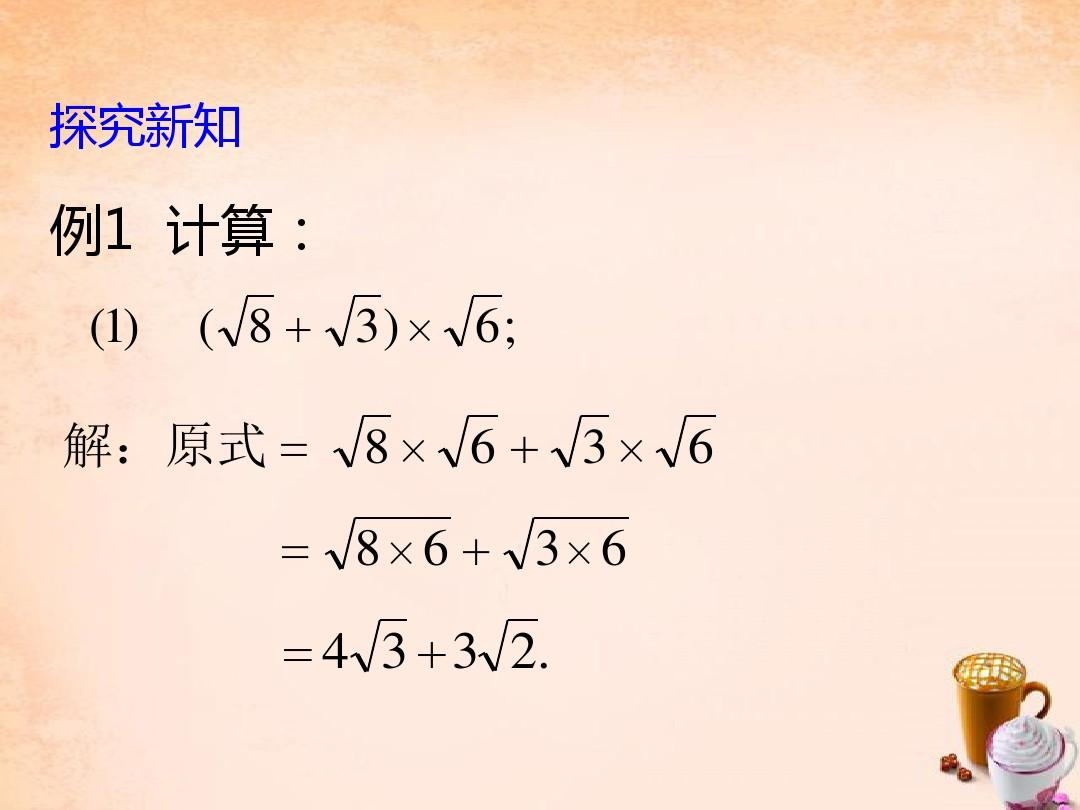sqrt: (505, 512, 633, 577), (323, 514, 457, 573), (652, 410, 729, 481), (549, 409, 613, 476), (345, 615, 412, 675), (441, 290, 504, 352), (438, 409, 501, 471), (323, 287, 383, 350), (330, 414, 392, 469), (476, 616, 538, 670), (224, 290, 276, 349)
